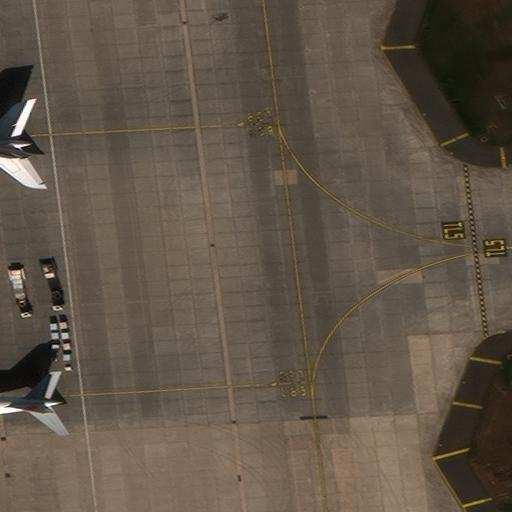Large Civil Transport: (0, 362, 62, 461)
